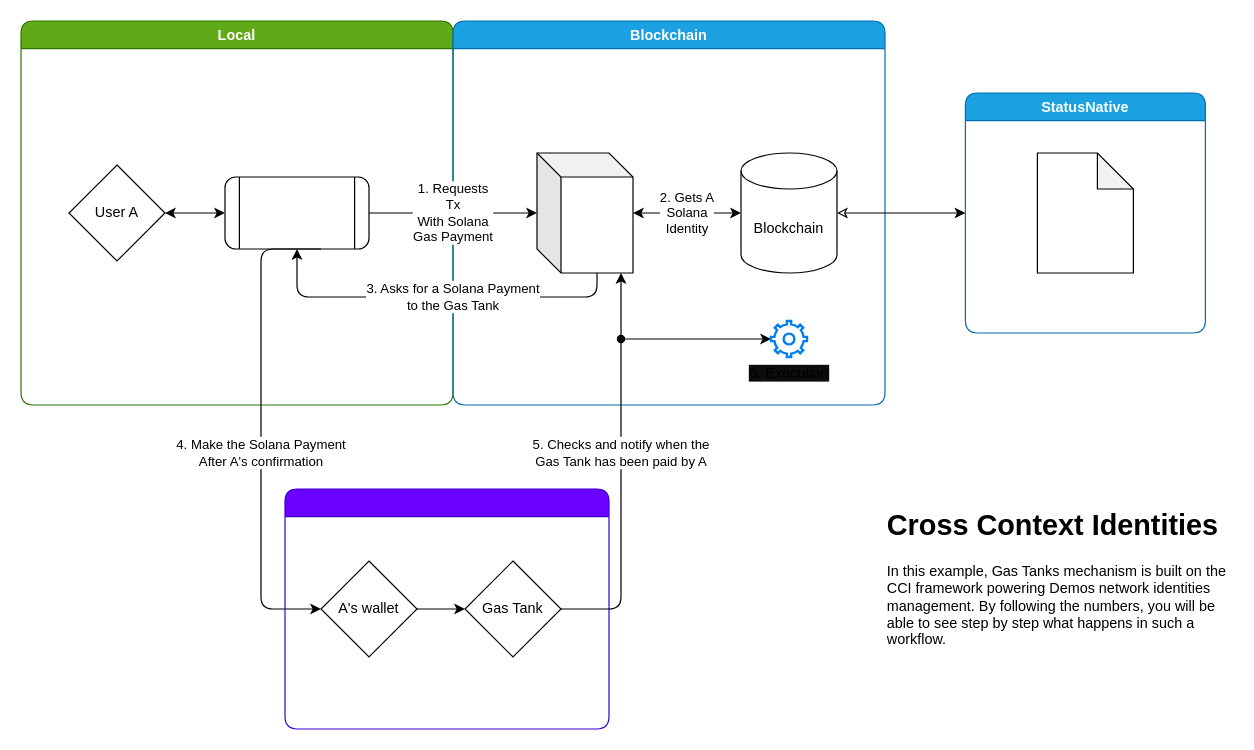
Some shapes in this 1254 by 750 pixel diagram are drawn without their labels. The box of each missing label's shape, as (x1, y1, x2, y2) in pixels:
Demos Wallet: (224, 176, 369, 249)
Remote Context: (284, 488, 609, 729)
RPC: (536, 152, 633, 273)
Stored Identities: (1036, 152, 1133, 273)
